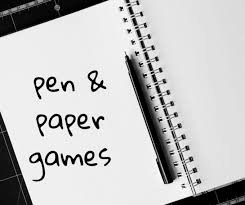pen: (125, 51, 172, 185)
